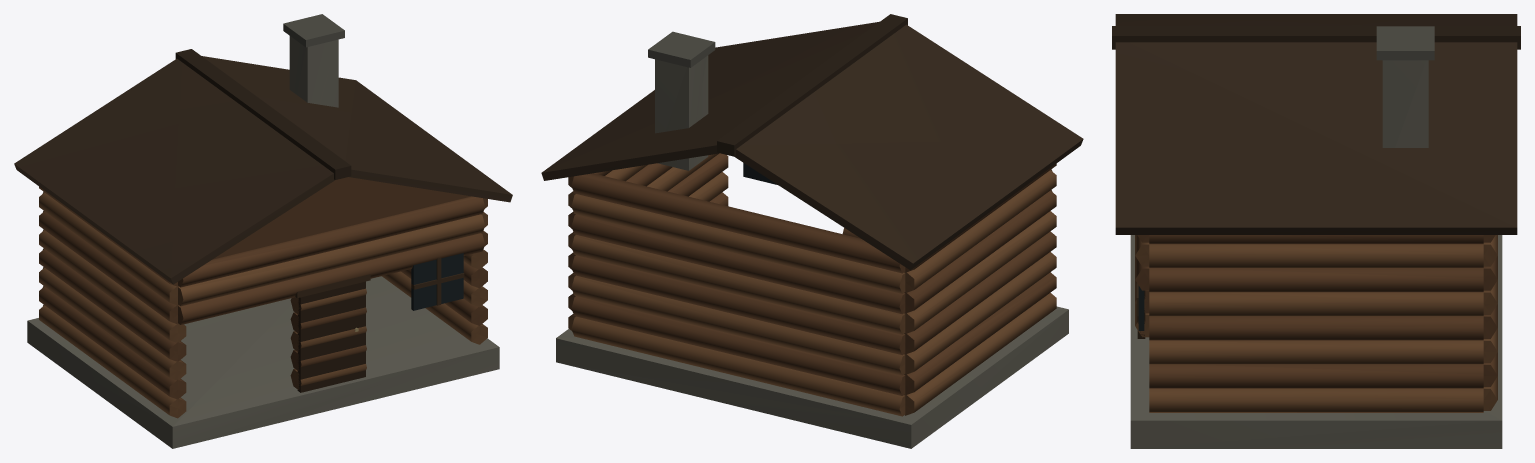
File: log_cabin_a.glb
The picture shows the model from 3 angles, left to right: view 1: azimuth 30°, elevation 25°; view 2: azimuth 150°, elevation 25°; view 3: azimuth 270°, elevation 25°; orthographic projection. The views are drawn at different scales.
Parts seen in each view (by area): view 1: log_cabin_a_timber, log_cabin_a_stone; view 2: log_cabin_a_timber, log_cabin_a_stone; view 3: log_cabin_a_timber, log_cabin_a_stone.
Part boxes in pixels (x1,y1,x2,y2): log_cabin_a_timber: (14, 49, 512, 418); log_cabin_a_stone: (27, 14, 499, 448); log_cabin_a_timber: (541, 14, 1083, 416); log_cabin_a_stone: (556, 31, 1068, 448); log_cabin_a_timber: (1112, 14, 1520, 412); log_cabin_a_stone: (1130, 26, 1502, 448).
Size of the model in its own units: 6.8 by 5.37 by 5.5.
